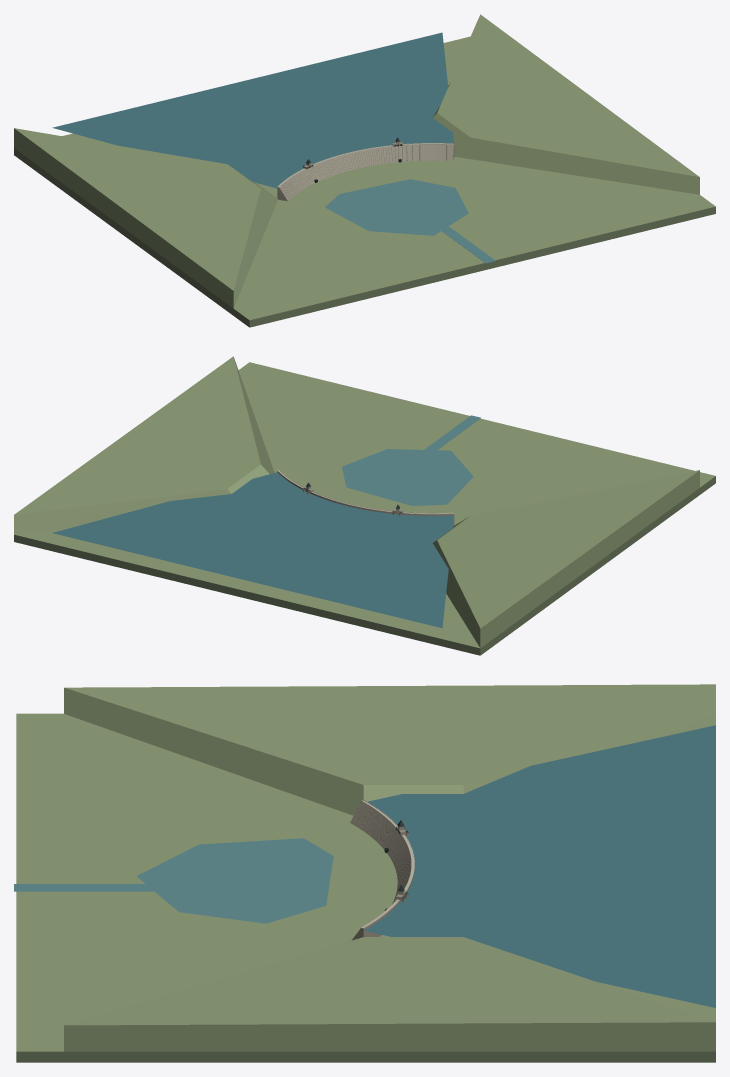
Rendered from moehnetalsperre.glb.
3 views of the same model, one above another, from view 1: azimuth 30°, elevation 25°; view 2: azimuth 150°, elevation 25°; view 3: azimuth 270°, elevation 25° (orthographic). The views are drawn at different scales.
Parts seen in each view (by area): view 1: Talboden, Stausee – nur Ausschnitt, Schematisches Ufer 1, Schematisches Ufer -1, Ausgleichsweiher – schematische Lage, Geländesockel, Bruchstein-Gewichtsstaumauer, Abfluss der Möhne; view 2: Talboden, Stausee – nur Ausschnitt, Schematisches Ufer -1, Schematisches Ufer 1, Ausgleichsweiher – schematische Lage, Geländesockel, Abfluss der Möhne; view 3: Talboden, Stausee – nur Ausschnitt, Schematisches Ufer -1, Schematisches Ufer 1, Ausgleichsweiher – schematische Lage, Geländesockel, Bruchstein-Gewichtsstaumauer, Abfluss der Möhne.
Boxes of the visible parts, left/top/right/bottom form: Talboden: left=62, top=36, right=715, bottom=320; Stausee – nur Ausschnitt: left=52, top=32, right=454, bottom=188; Schematisches Ufer 1: left=432, top=14, right=699, bottom=194; Schematisches Ufer -1: left=14, top=128, right=277, bottom=308; Ausgleichsweiher – schematische Lage: left=325, top=179, right=468, bottom=235; Geländesockel: left=14, top=148, right=715, bottom=327; Bruchstein-Gewichtsstaumauer: left=277, top=144, right=454, bottom=201; Abfluss der Möhne: left=436, top=224, right=495, bottom=263; Talboden: left=15, top=362, right=715, bottom=648; Stausee – nur Ausschnitt: left=52, top=472, right=454, bottom=628; Schematisches Ufer -1: left=433, top=470, right=699, bottom=647; Schematisches Ufer 1: left=14, top=356, right=274, bottom=534; Ausgleichsweiher – schematische Lage: left=342, top=449, right=473, bottom=505; Geländesockel: left=14, top=476, right=715, bottom=655; Abfluss der Möhne: left=421, top=415, right=480, bottom=454; Talboden: left=16, top=713, right=715, bottom=1051; Stausee – nur Ausschnitt: left=364, top=725, right=715, bottom=1007; Schematisches Ufer -1: left=64, top=684, right=715, bottom=815; Schematisches Ufer 1: left=64, top=937, right=715, bottom=1051; Ausgleichsweiher – schematische Lage: left=136, top=838, right=333, bottom=923; Geländesockel: left=16, top=1051, right=715, bottom=1062; Bruchstein-Gewichtsstaumauer: left=350, top=801, right=414, bottom=940; Abfluss der Möhne: left=14, top=884, right=163, bottom=891.
Size of the model in its own units: 1600 by 91.7 by 1405.
